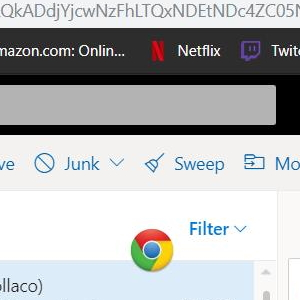chrome: (130, 228, 174, 273)
